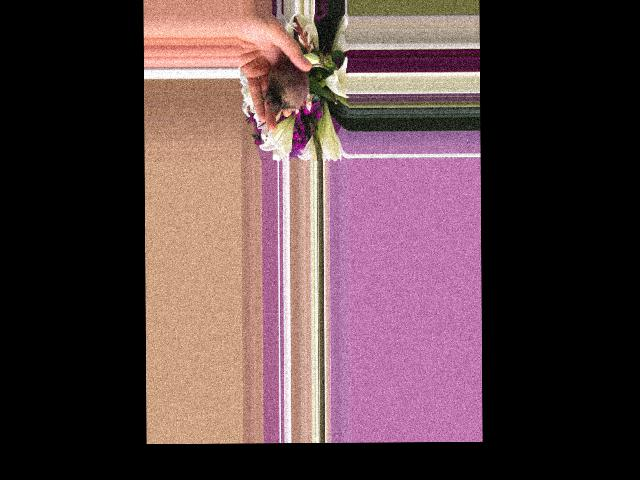beet: (266, 57, 329, 112)
